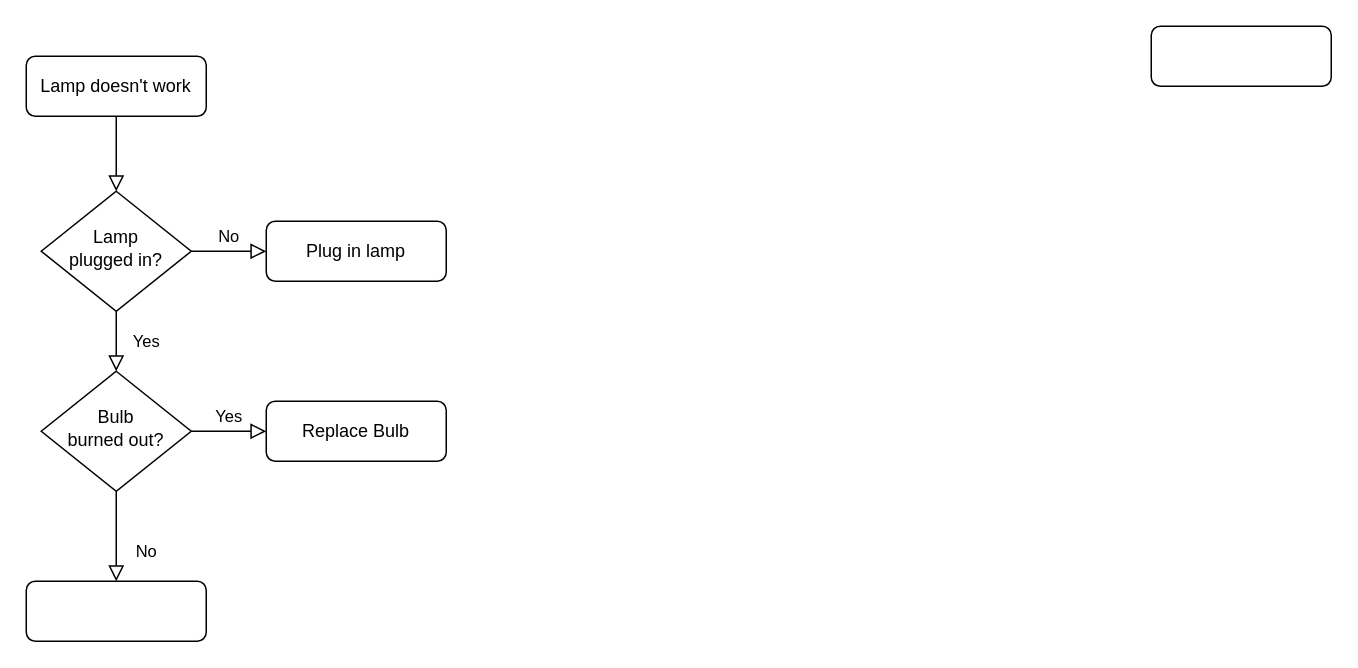
Some shapes in this 1358 by 668 pixel diagram are drawn without their labels. The shapes that lost their labels are listed below. From the top down, each one's box as (x1, y1, x2, y2) in pixels, then its label:
(1150, 25, 1331, 86): Init
(25, 580, 206, 641): Repair Lamp
